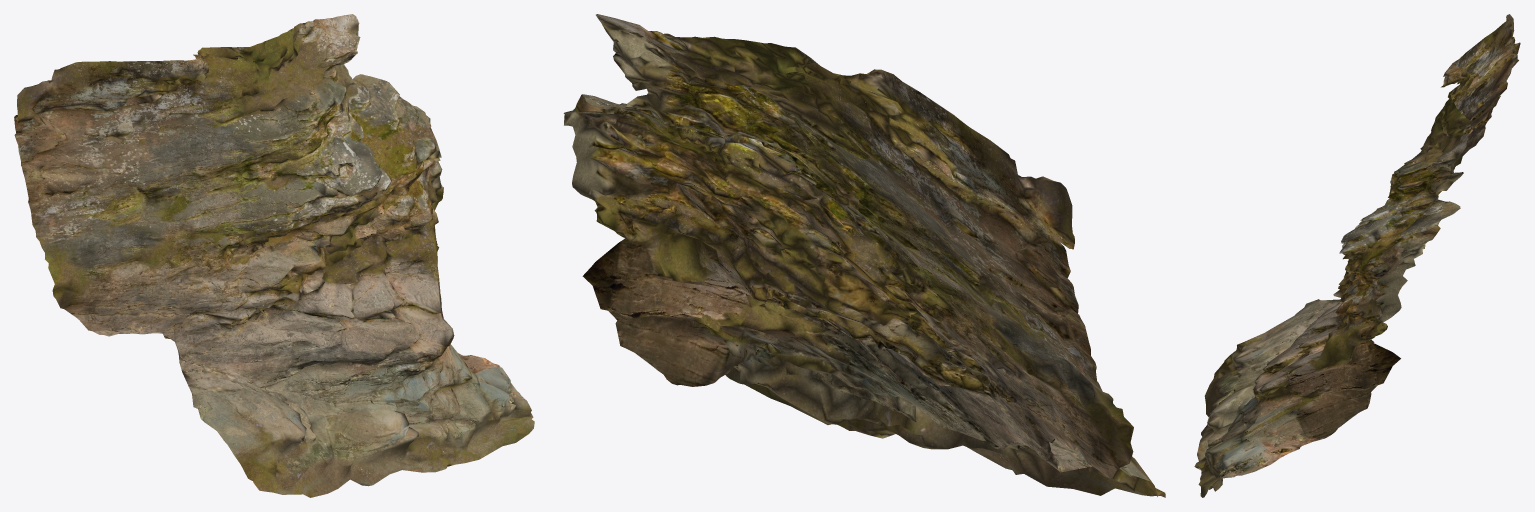
The model's file is rock_face_02.glb.
3 views of the same model, side by side, from view 1: azimuth 30°, elevation 25°; view 2: azimuth 150°, elevation 25°; view 3: azimuth 270°, elevation 25° (orthographic). The views are drawn at different scales.
Visible parts, largest first — view 1: rock_face_02; view 2: rock_face_02; view 3: rock_face_02.
Part boxes in pixels (x1,y1,x2,y2): rock_face_02: (14,14,534,497); rock_face_02: (563,14,1165,497); rock_face_02: (1194,14,1520,497).
Bounding box in the file's own units: 2.71 × 2.47 × 2.13.
Materials: 1 (1 with a texture image).
